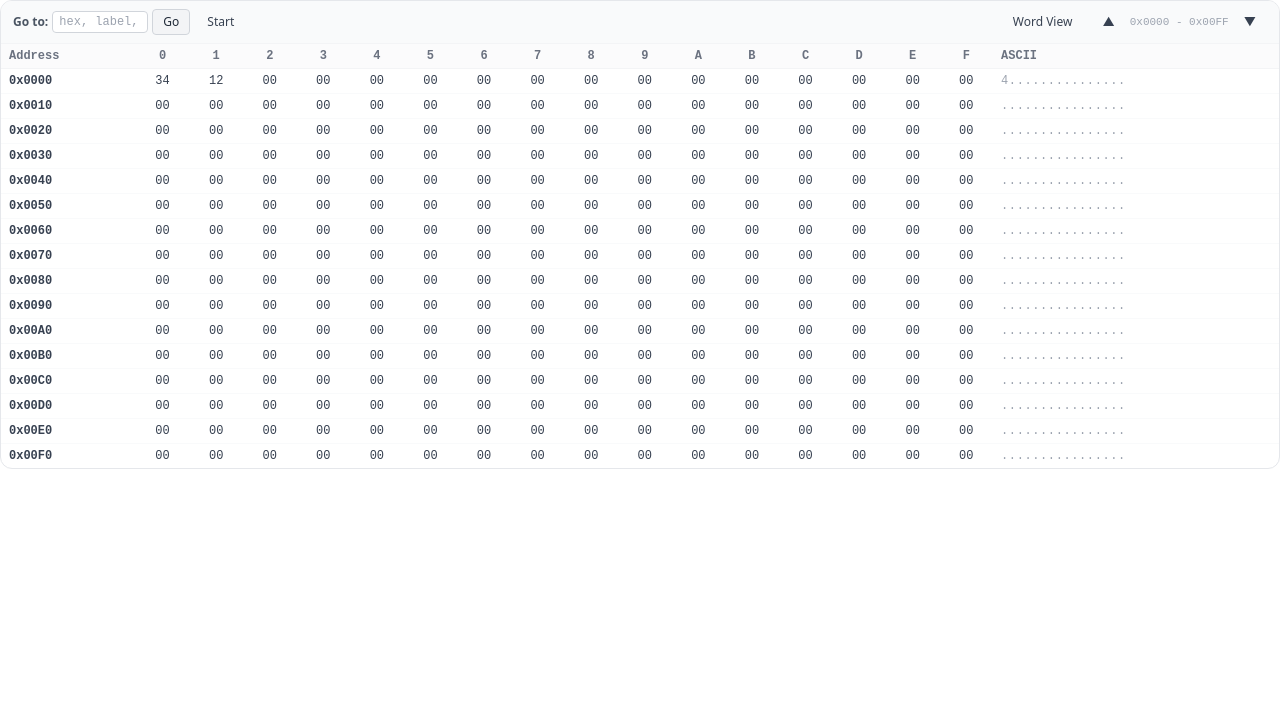
Test case: MemoryViewer › toggles between byte view and little-endian word view
The image size is (1280, 720).
Expected: the text "34" is shown, [155, 74, 170, 88]
Expected: the text "12" is shown, [209, 74, 223, 88]
Note: Toggle word view
Click the button with aria-label "Toggle between byte view and little-endian word view" at (1043, 22), box [1002, 9, 1084, 35]
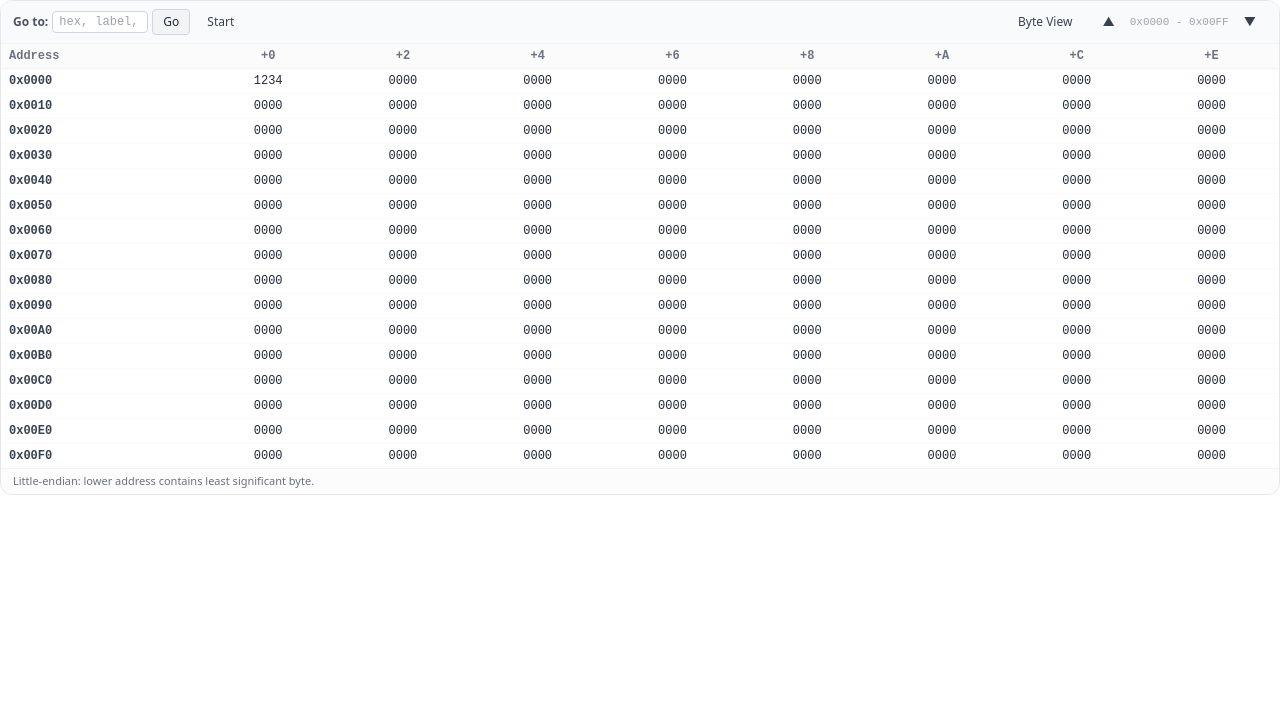
Now the text "1234" is shown, box [201, 69, 336, 94]
